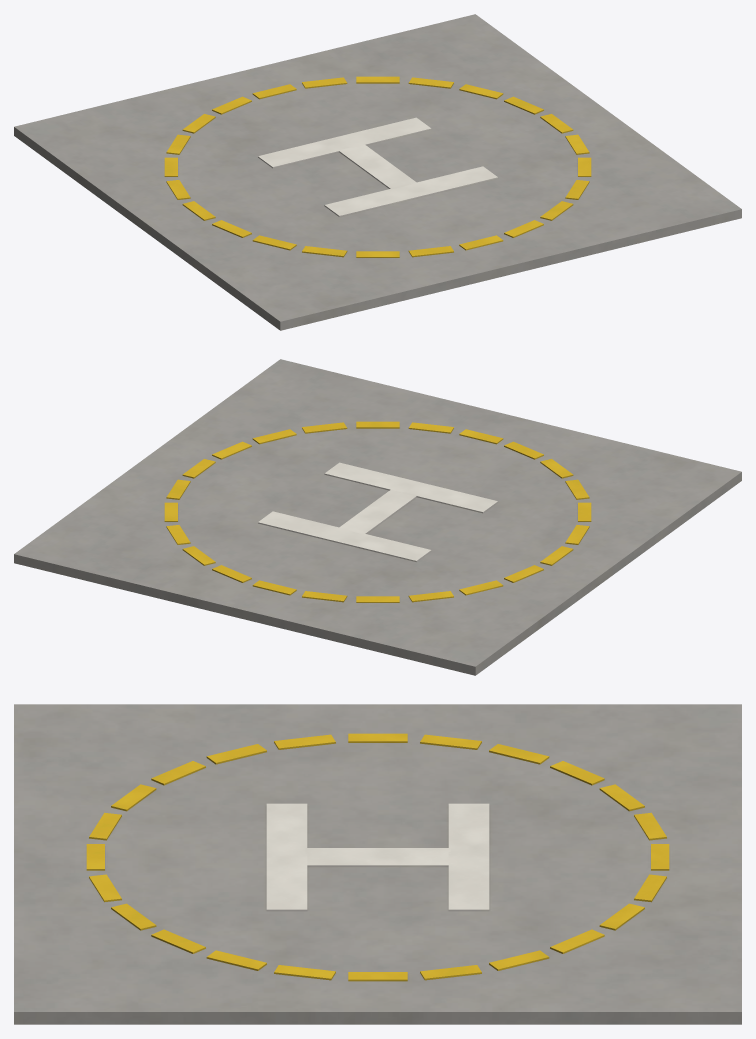
File: helipad_tex.glb
The picture shows the model from 3 angles, top to bottom: view 1: azimuth 30°, elevation 25°; view 2: azimuth 150°, elevation 25°; view 3: azimuth 270°, elevation 25°; orthographic projection. The views are drawn at different scales.
Visible parts, largest first — view 1: helipad; view 2: helipad; view 3: helipad.
Part boxes in pixels (x1,y1,x2,y2): helipad: [14, 14, 741, 330]; helipad: [14, 359, 741, 675]; helipad: [14, 704, 741, 1024].
Size of the model in its own units: 16 by 0.34 by 16.
3 materials, 3 textured.
